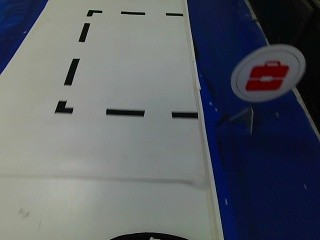company: (231, 45, 301, 103)
